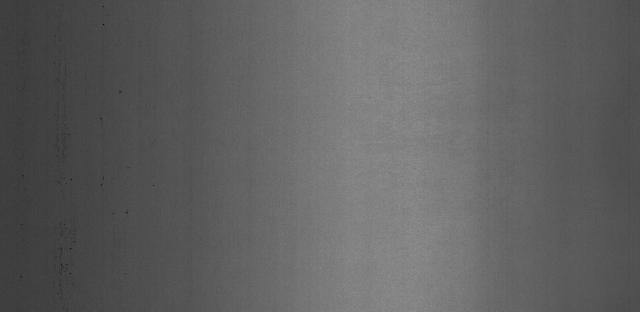inclusion: (40, 41, 78, 301), (118, 204, 134, 226), (95, 173, 111, 190), (116, 85, 123, 96)
